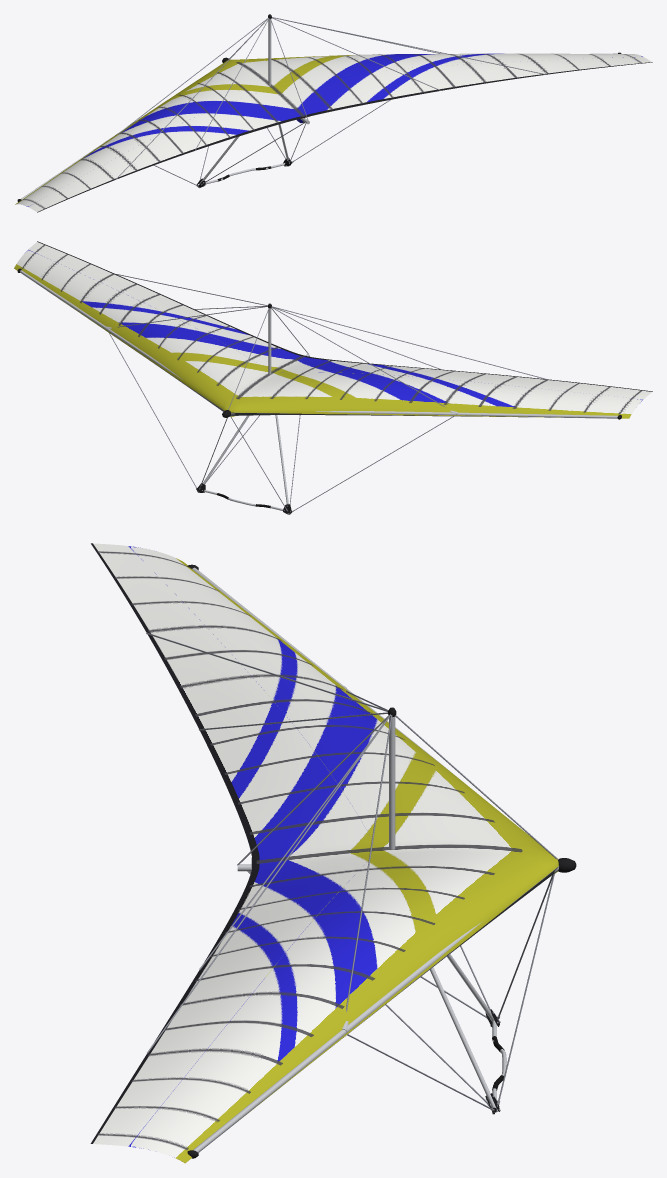
The model's file is glider_ww_ultra_sport.glb.
3 renders of one model, top to bottom at view 1: azimuth 30°, elevation 25°; view 2: azimuth 150°, elevation 25°; view 3: azimuth 270°, elevation 25°, orthographic. The views are drawn at different scales.
Parts seen in each view (by area): view 1: Sail, Frame, ControlFrame; view 2: Sail, Frame, ControlFrame; view 3: Sail, Frame, ControlFrame.
Boxes of the visible parts, x1=… form: Sail: x1=15, y1=53, x2=652, y2=212; Frame: x1=17, y1=14, x2=621, y2=201; ControlFrame: x1=154, y1=100, x2=390, y2=188; Sail: x1=14, y1=241, x2=652, y2=418; Frame: x1=17, y1=268, x2=621, y2=419; ControlFrame: x1=109, y1=333, x2=453, y2=514; Sail: x1=90, y1=543, x2=558, y2=1163; Frame: x1=146, y1=564, x2=576, y2=1158; ControlFrame: x1=247, y1=871, x2=554, y2=1114.
Bounding box in the file's own units: 9.96 × 2.81 × 3.41.
Materials: 8 (1 with a texture image).
